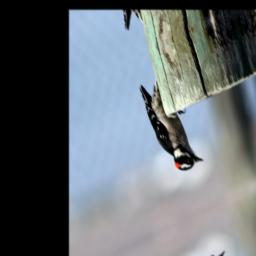Woodpecker: (138, 66, 205, 184)
